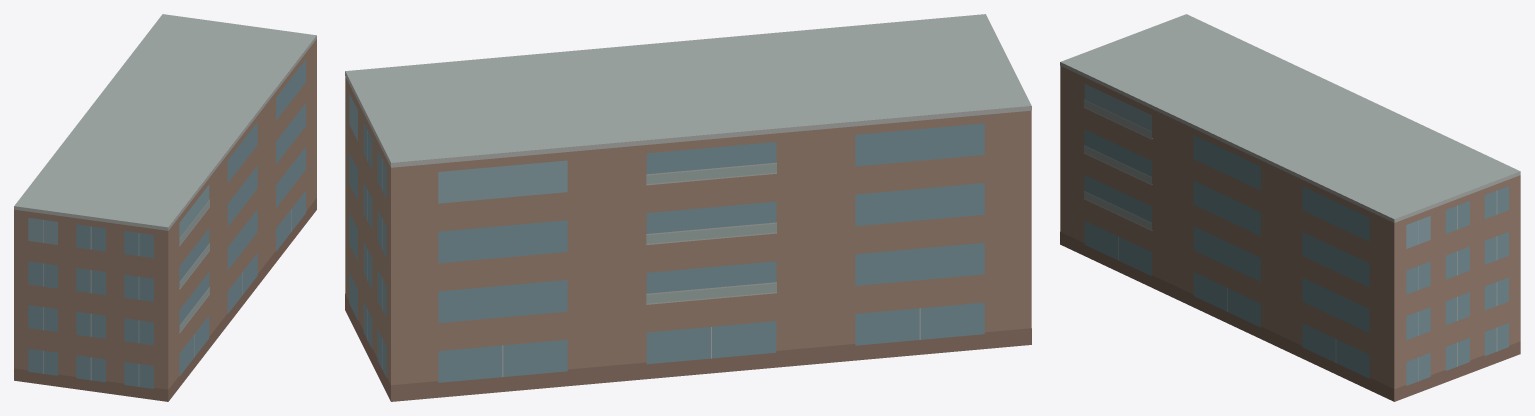
The model's file is residential-5428ac61-64cc-4aac-8efc-33a7128ccdfa.glb.
3 views of the same model, side by side, from view 1: azimuth 30°, elevation 25°; view 2: azimuth 150°, elevation 25°; view 3: azimuth 270°, elevation 25° (orthographic). The views are drawn at different scales.
Parts seen in each view (by area): view 1: residential-5428ac61-64cc-4aac-8efc-33a7128ccdfa.tmp; view 2: residential-5428ac61-64cc-4aac-8efc-33a7128ccdfa.tmp; view 3: residential-5428ac61-64cc-4aac-8efc-33a7128ccdfa.tmp.
Part boxes in pixels (x1,y1,x2,y2): residential-5428ac61-64cc-4aac-8efc-33a7128ccdfa.tmp: (14,14,316,401); residential-5428ac61-64cc-4aac-8efc-33a7128ccdfa.tmp: (345,14,1031,401); residential-5428ac61-64cc-4aac-8efc-33a7128ccdfa.tmp: (1060,14,1520,401).
Size of the model in its own units: 29.43 by 12.2 by 27.89.
